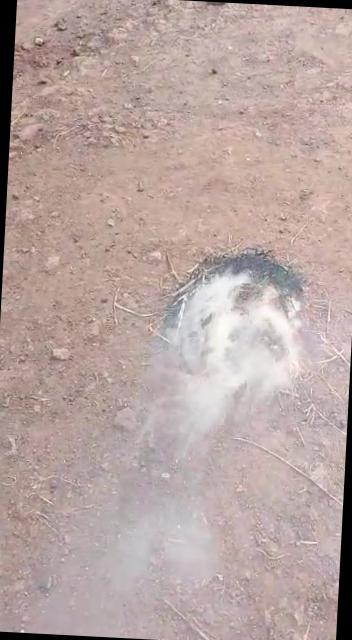Smoke: (94, 260, 308, 611)
